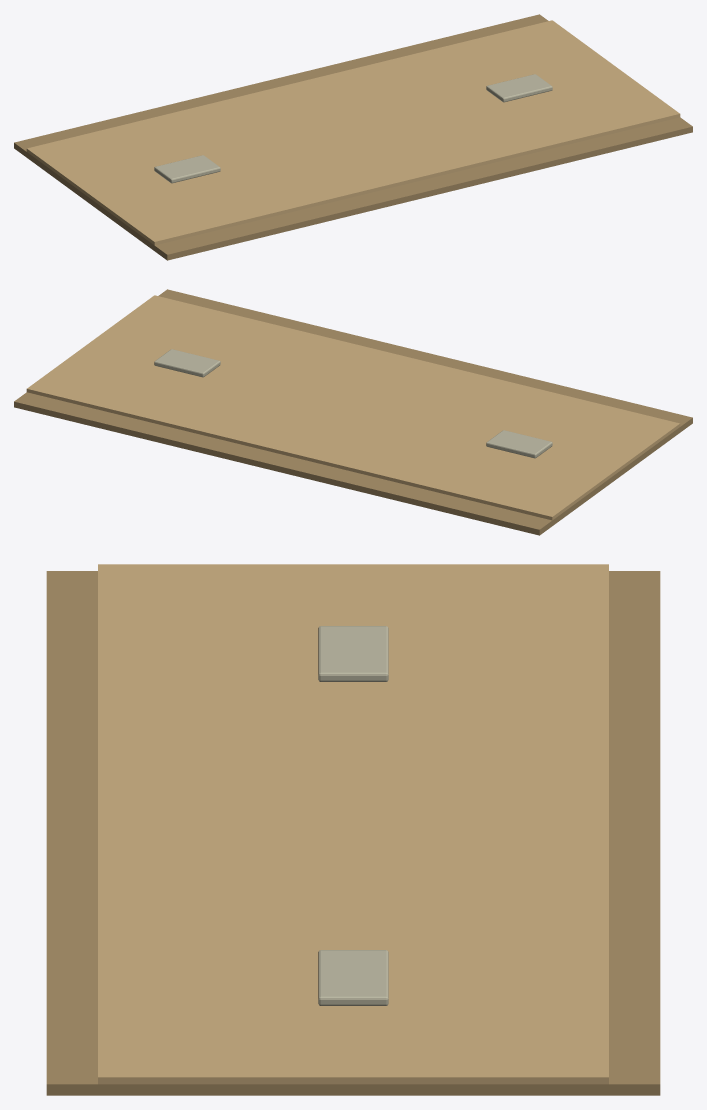
The model's file is path_straight.glb.
The picture shows the model from 3 angles, top to bottom: view 1: azimuth 30°, elevation 25°; view 2: azimuth 150°, elevation 25°; view 3: azimuth 270°, elevation 25°; orthographic projection. The views are drawn at different scales.
Parts seen in each view (by area): view 1: path_straight · path, path_straight · path_edge, path_straight · stone_light; view 2: path_straight · path, path_straight · path_edge, path_straight · stone_light; view 3: path_straight · path, path_straight · path_edge, path_straight · stone_light.
Boxes of the visible parts, x1,y1,x2,y2 form: path_straight · path: [26, 20, 680, 245]; path_straight · path_edge: [14, 14, 692, 260]; path_straight · stone_light: [154, 74, 552, 183]; path_straight · path: [26, 295, 680, 520]; path_straight · path_edge: [14, 289, 692, 535]; path_straight · stone_light: [154, 349, 552, 458]; path_straight · path: [98, 564, 608, 1084]; path_straight · path_edge: [46, 571, 660, 1095]; path_straight · stone_light: [318, 626, 388, 1005].
Bounding box in the file's own units: 0.95 × 0.024 × 0.48.
